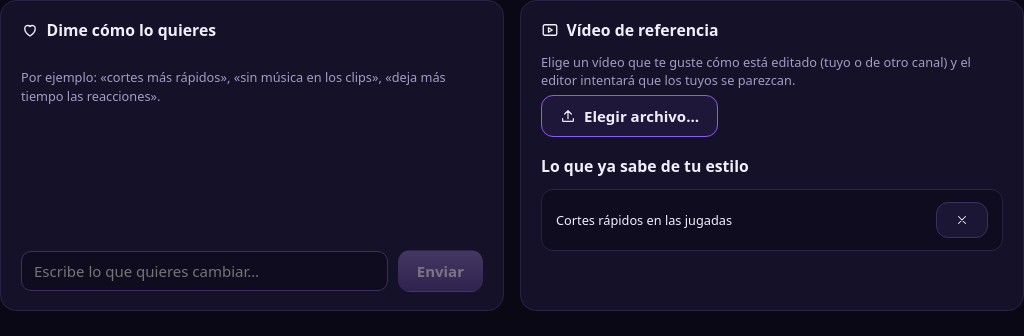
Scenario: tu estilo › manda el mensaje al editor y enseña lo que cambió
expect the text "Cortes rápidos en las jugadas" is shown: met, box [556, 211, 732, 229]
Type "cortes más rápidos" into the field named "Mensaje para el editor". click: (204, 272)
box: [21, 252, 388, 292]
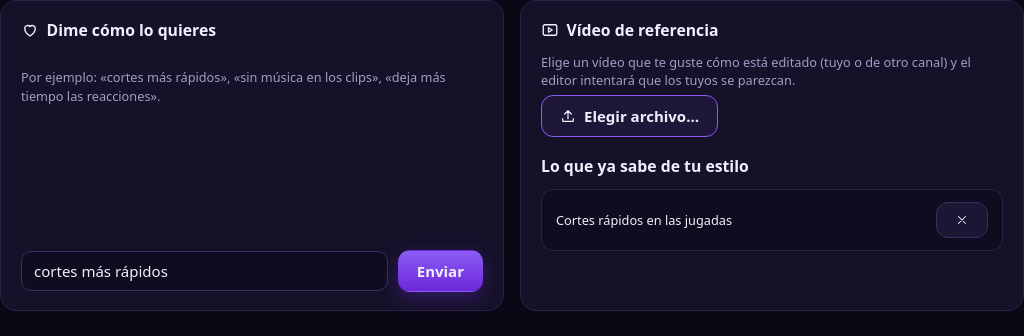
Click the button "Enviar". click: (440, 272)
box: [398, 250, 483, 292]
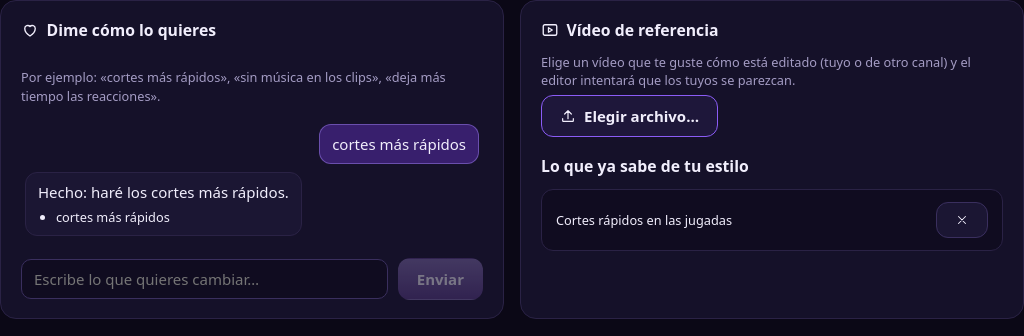
expect the button named "Olvidar: Cortes rápidos" is shown: met, box [936, 202, 988, 238]
expect the text "Hecho: haré los cortes más rápidos. cortes más rápidos" is shown: met, box [25, 172, 302, 236]
